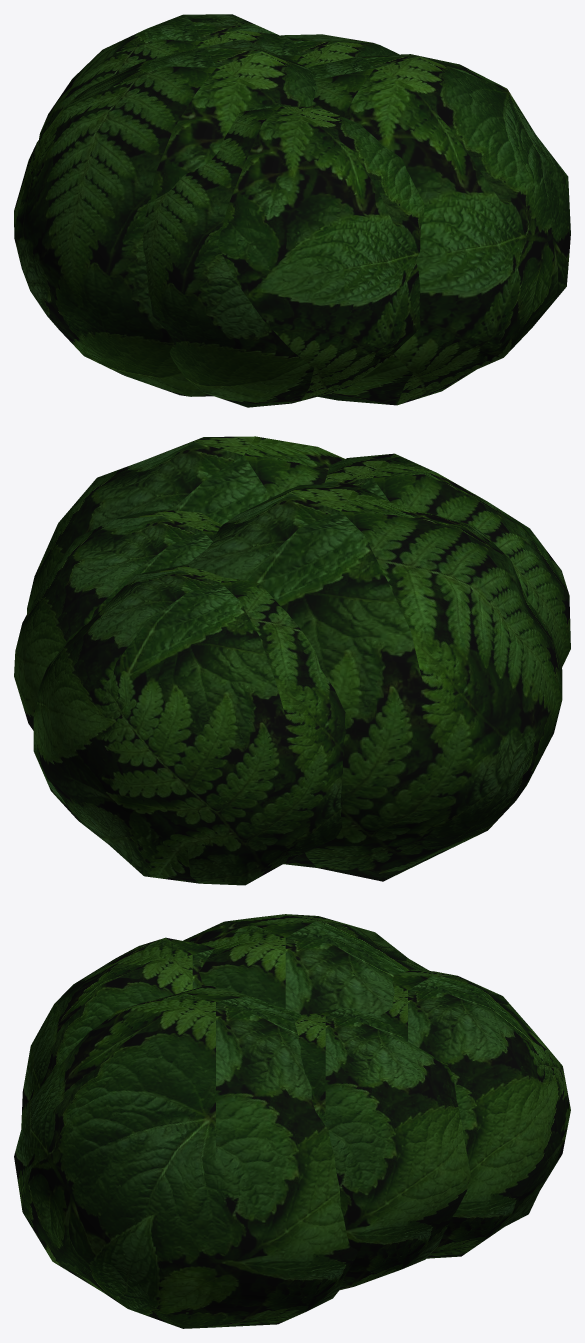
File: dense-bush-v01-photo.glb
The picture shows the model from 3 angles, top to bottom: view 1: azimuth 30°, elevation 25°; view 2: azimuth 150°, elevation 25°; view 3: azimuth 270°, elevation 25°; orthographic projection. The views are drawn at different scales.
Parts seen in each view (by area): view 1: dense-bush; view 2: dense-bush; view 3: dense-bush.
Part boxes in pixels (<box>): dense-bush: <box>14,14,570,407</box>; dense-bush: <box>14,436,570,885</box>; dense-bush: <box>14,914,570,1328</box>.
Bounding box in the file's own units: 2.24 × 1.48 × 2.32.
1 material, 1 textured.
